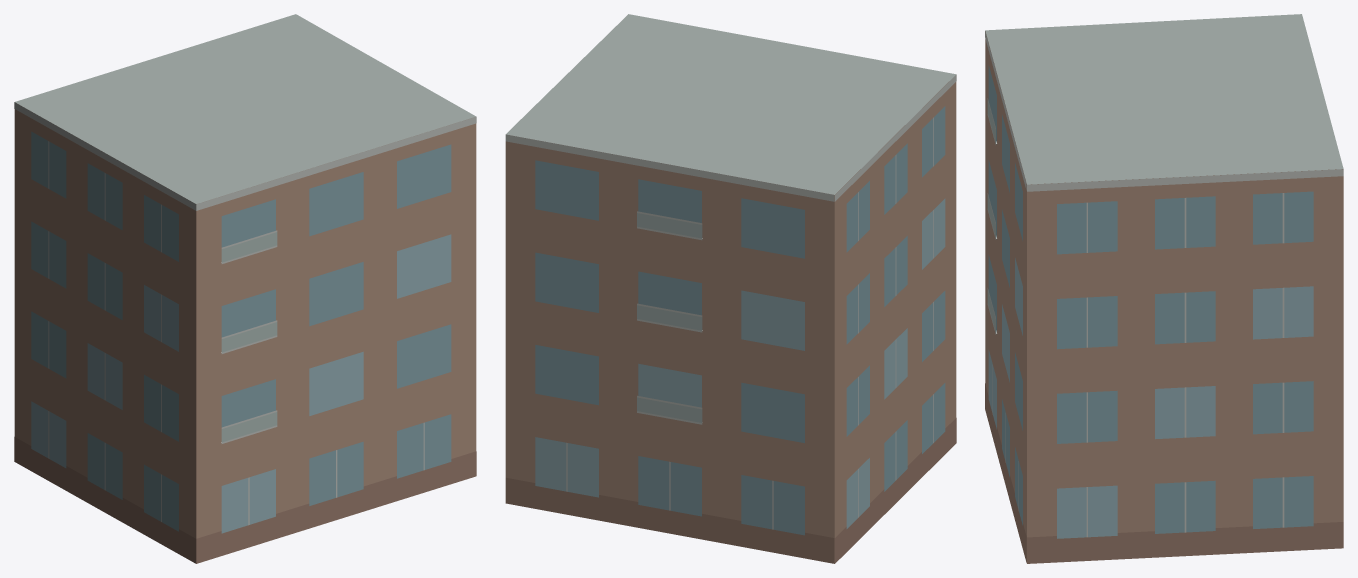
File: survey-upis-32547188.glb
3 views of the same model, side by side, from view 1: azimuth 30°, elevation 25°; view 2: azimuth 150°, elevation 25°; view 3: azimuth 270°, elevation 25° (orthographic). The views are drawn at different scales.
Parts seen in each view (by area): view 1: survey-upis-32547188.tmp; view 2: survey-upis-32547188.tmp; view 3: survey-upis-32547188.tmp.
Part boxes in pixels (left/top/right/bottom): survey-upis-32547188.tmp: left=14, top=14, right=476, bottom=563; survey-upis-32547188.tmp: left=505, top=14, right=956, bottom=563; survey-upis-32547188.tmp: left=985, top=14, right=1343, bottom=563.
Bounding box in the file's own units: 12.46 × 12.9 × 11.06.
